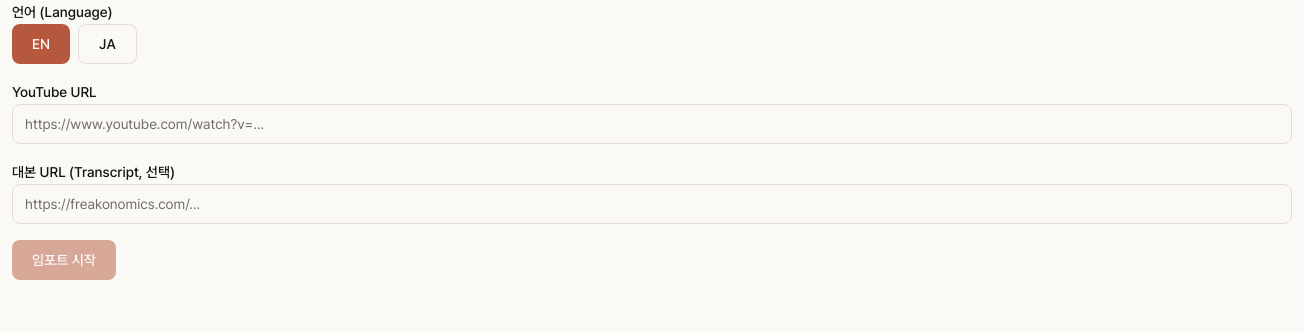
Test: ImportForm › should show inline error on 400
This screenshot has width=1304, height=333.
Type "https://www.youtube.com/watch?v=abc123" into the field labelled "YouTube URL" at (652, 124), box 12,104 -> 1292,144
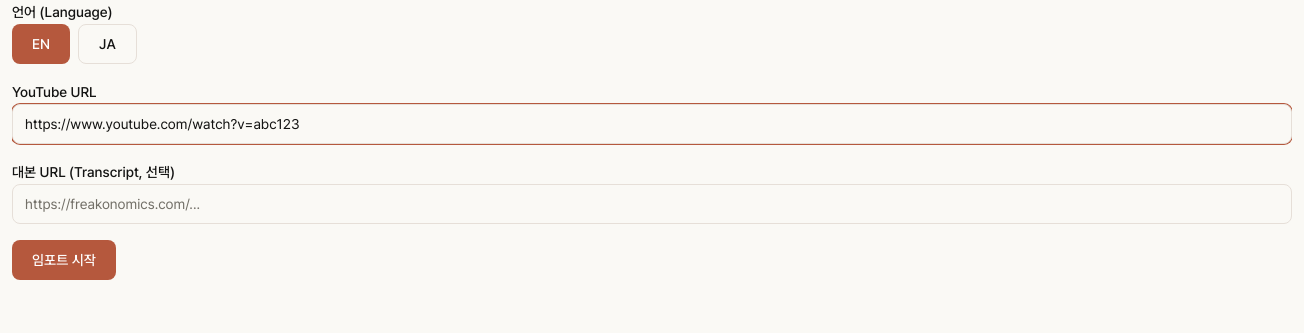
Type "https://freakonomics.com/podcast/x" into the field labelled "대본 URL (Transcript, 선택)" at (652, 204), box 12,184 -> 1292,224
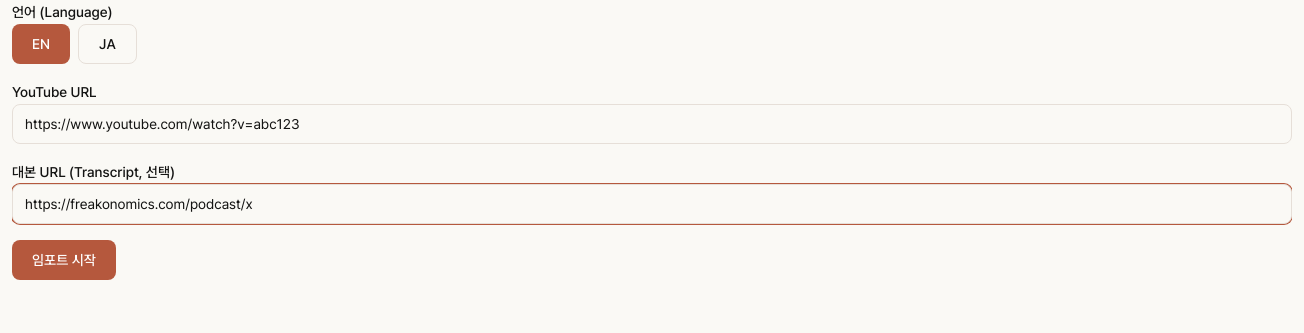
Click the button "임포트 시작" at (64, 260), box 12,240 -> 116,280
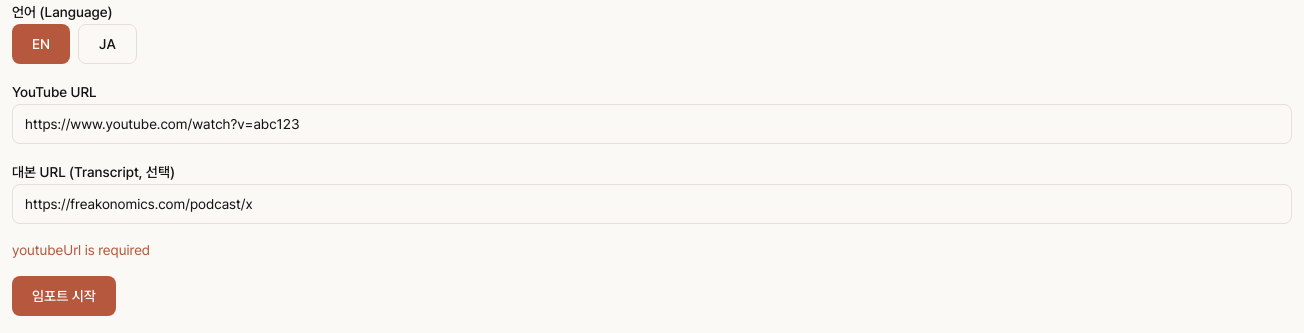
Expected: the message reads "youtubeUrl is required", 12,242 -> 150,258
